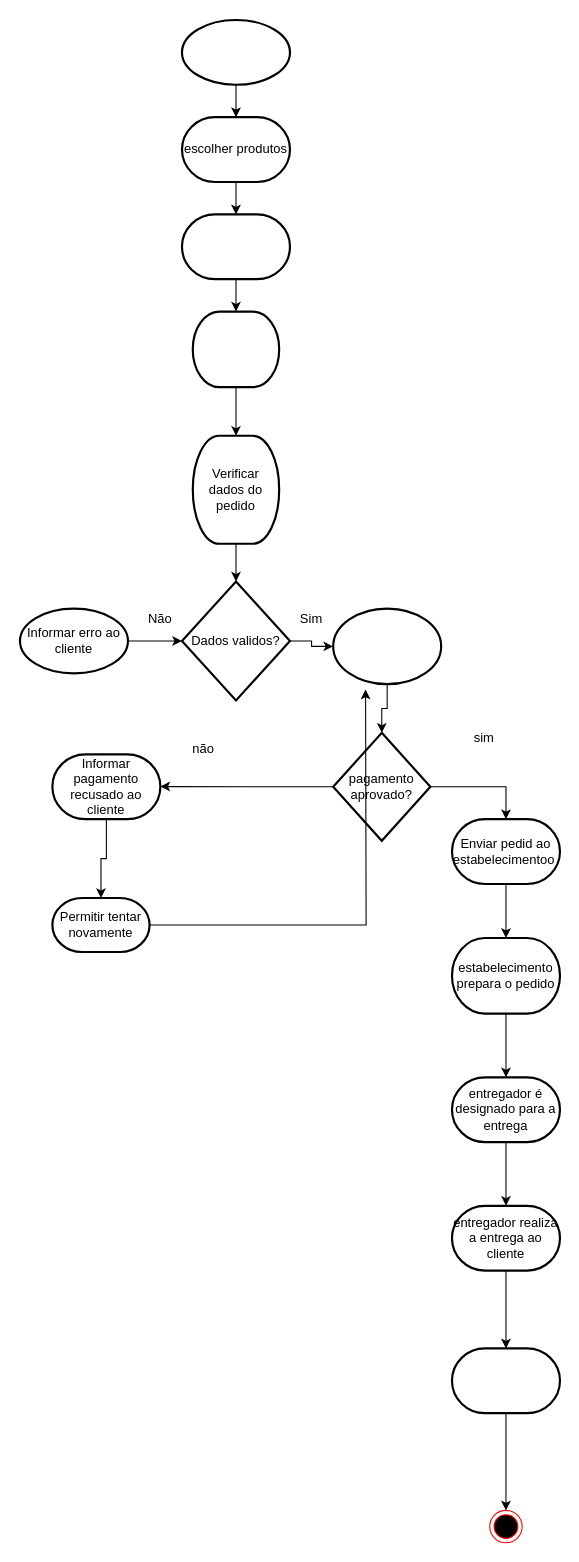
The diagram is 579 pixels wide and 1562 high, and some of its shapes have lost their labels. The shapes that lost their labels are listed below. From the top down, each one's box as (x1, y1, x2, y2) in pixels, then its label:
(180, 18, 291, 85): inicio
(180, 213, 291, 280): Informar endereço de entrega
(191, 310, 280, 388): Confirmar pedido
(332, 607, 442, 685): provessar pagamento
(450, 1347, 561, 1414): atualizar status do pedido para "entregue
